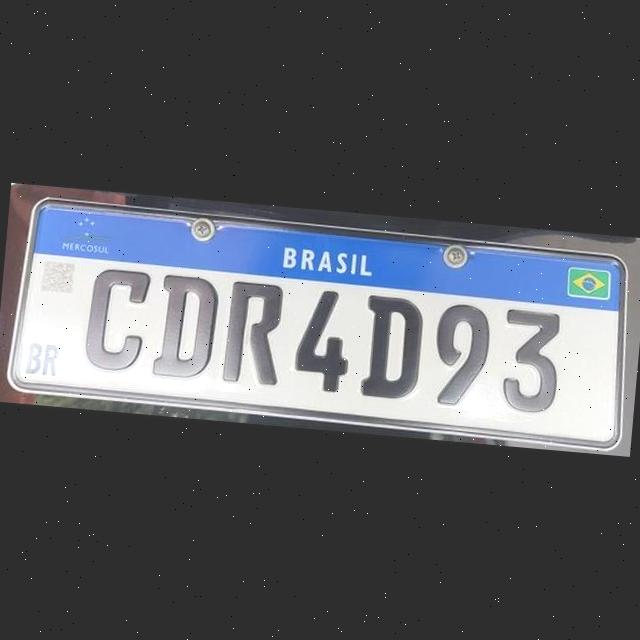Caractere: (149, 268, 221, 381), (84, 262, 155, 376), (497, 303, 566, 417), (358, 290, 427, 402), (220, 276, 284, 388), (291, 285, 353, 396), (429, 300, 492, 409)
Placa: (8, 193, 636, 452)
